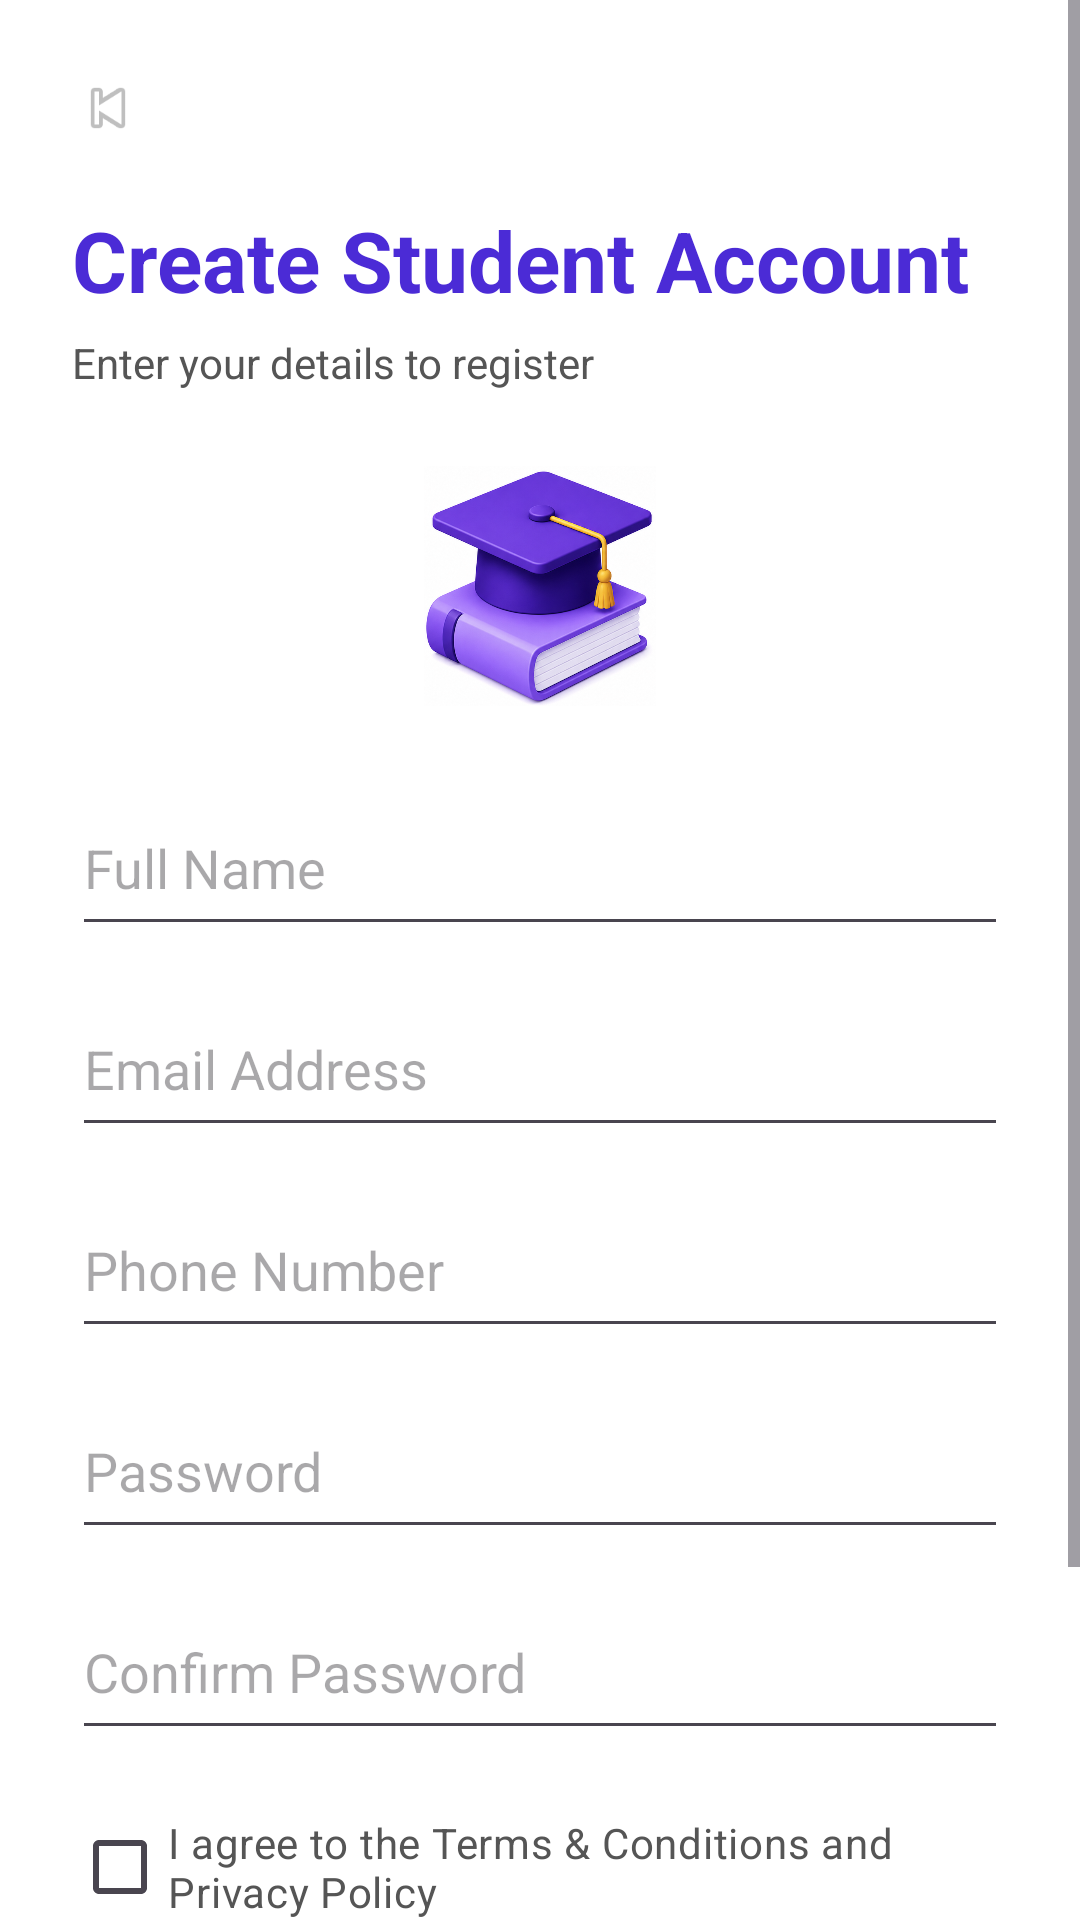

Screen size 1080x1920. Icon name, then its center in pixels as [x,y]:
previous: [108,108]
